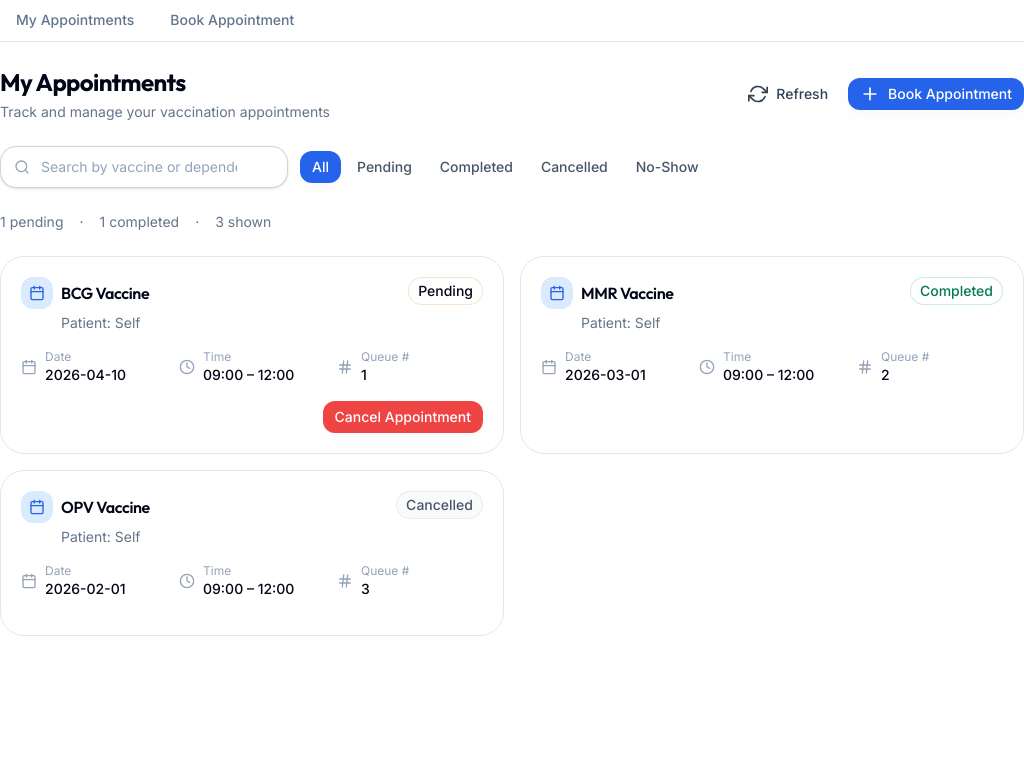
Test: AppointmentsPage › opens cancel confirmation modal on Cancel click
expect the heading "BCG Vaccine" is shown: met, box [61,281,149,305]
# The card has a button with text "Cancel Appointment"
Click the button "Cancel Appointment": click(403, 417) [322,401,483,433]
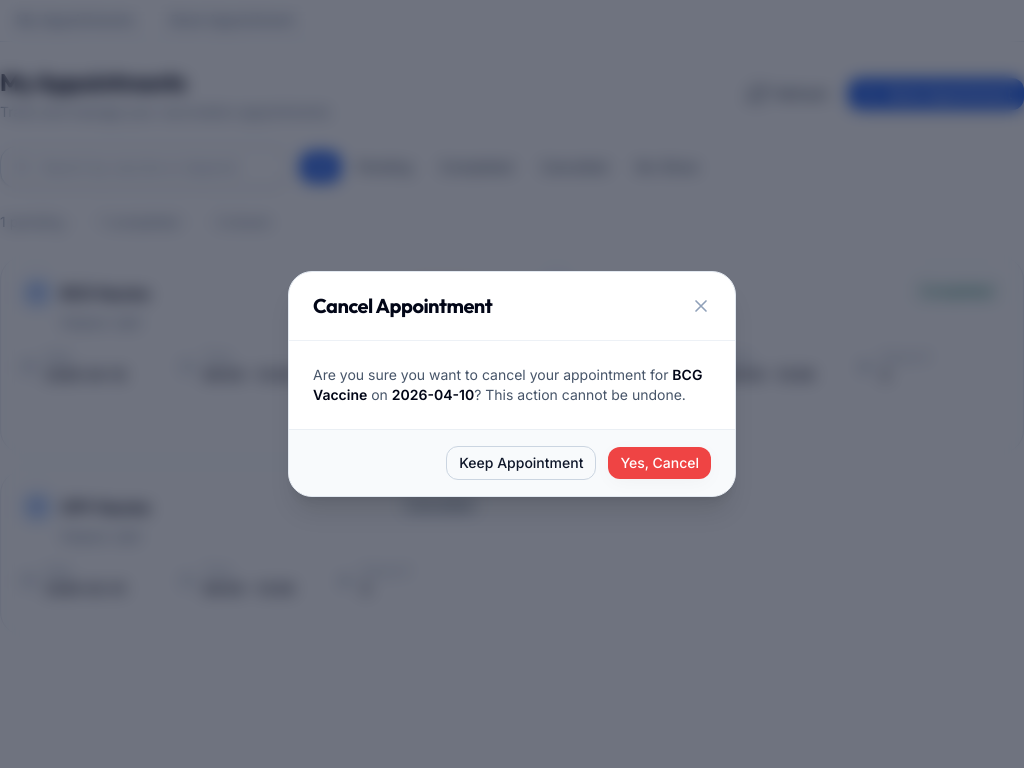
expect the button "Yes, Cancel" is shown: met, box [608,447,711,479]
